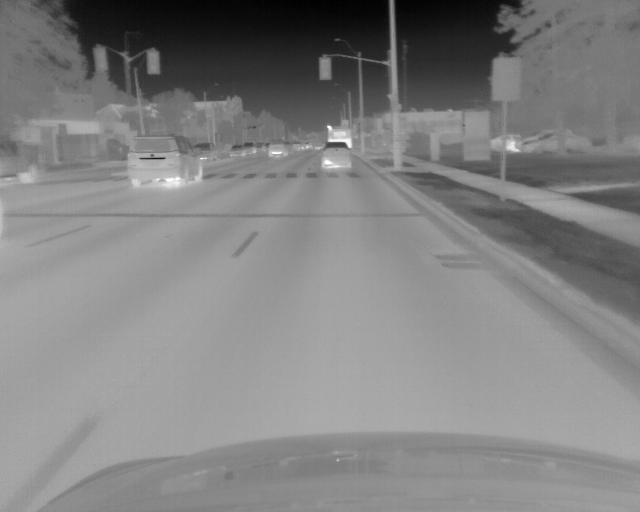car: (127, 135, 204, 188), (516, 130, 592, 155), (1, 139, 39, 183), (320, 142, 351, 171), (487, 132, 519, 153), (328, 126, 353, 150), (196, 142, 218, 162), (266, 140, 287, 157), (242, 141, 255, 156), (229, 145, 244, 157), (289, 141, 300, 152), (301, 141, 310, 151)
